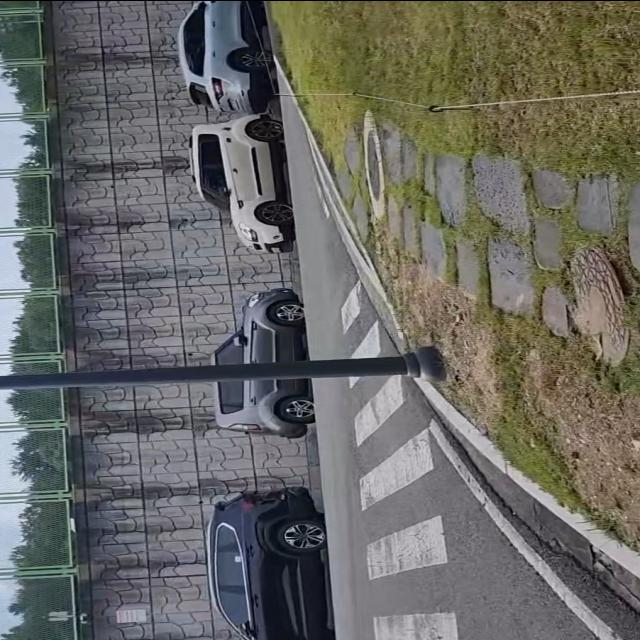obstacle: (0, 346, 443, 390), (175, 101, 299, 258), (202, 279, 321, 439), (166, 0, 276, 118)
road: (282, 60, 640, 640)
